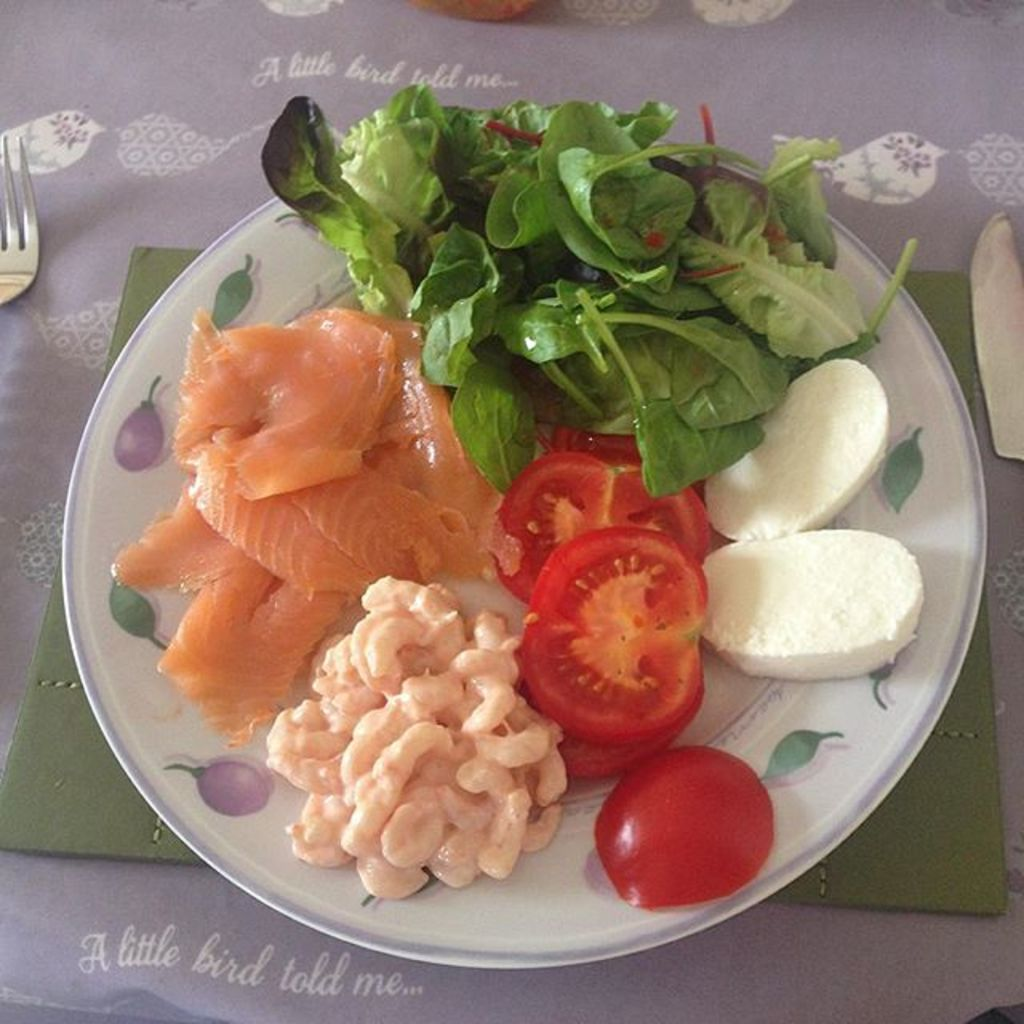Tomato: (521, 519, 704, 777), (491, 449, 710, 593), (580, 752, 785, 899)
